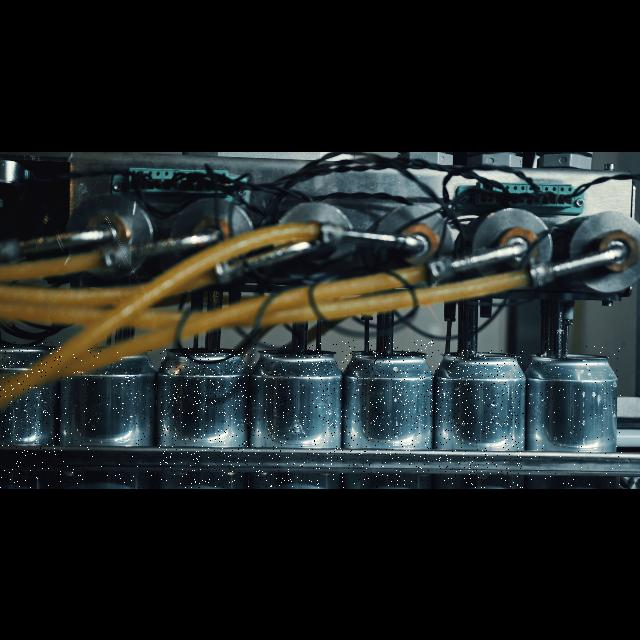empty: (340, 340, 434, 488), (528, 346, 622, 488), (63, 346, 155, 488), (250, 342, 338, 488), (159, 348, 249, 488), (436, 350, 524, 488), (0, 342, 62, 488)
